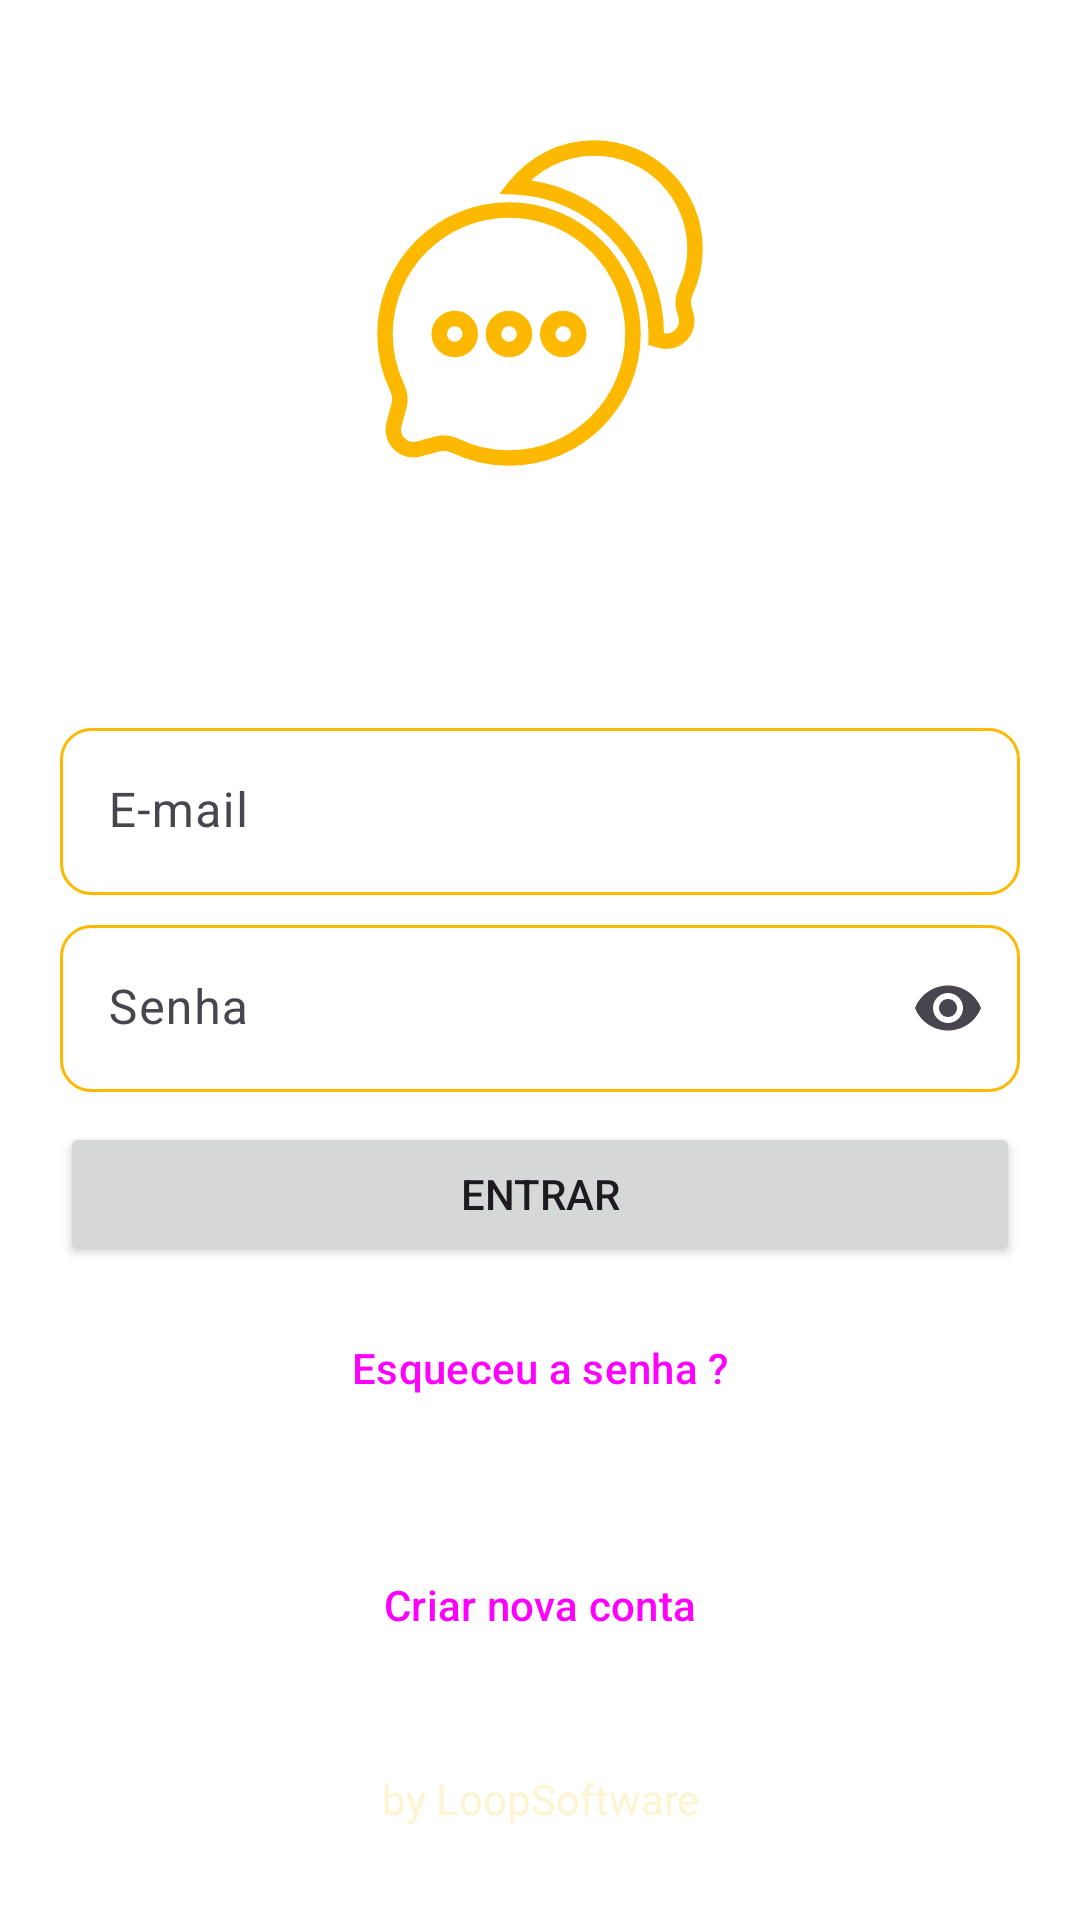

Icons on this 1080×1920 Android screen, each with its box as [left=x1, top=y1, right=x2, bottom=y2]:
dialog: [left=377, top=140, right=703, bottom=466]
